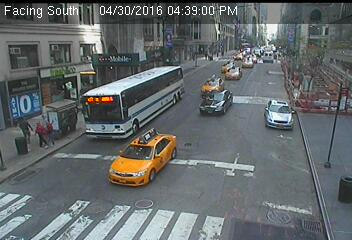neg: (316, 146, 337, 173), (64, 168, 80, 188), (196, 99, 209, 116), (264, 102, 277, 119), (311, 80, 324, 97), (123, 110, 134, 124), (143, 130, 154, 144)
pos: (12, 113, 37, 146), (35, 112, 58, 144), (29, 118, 48, 144), (200, 48, 212, 63)
